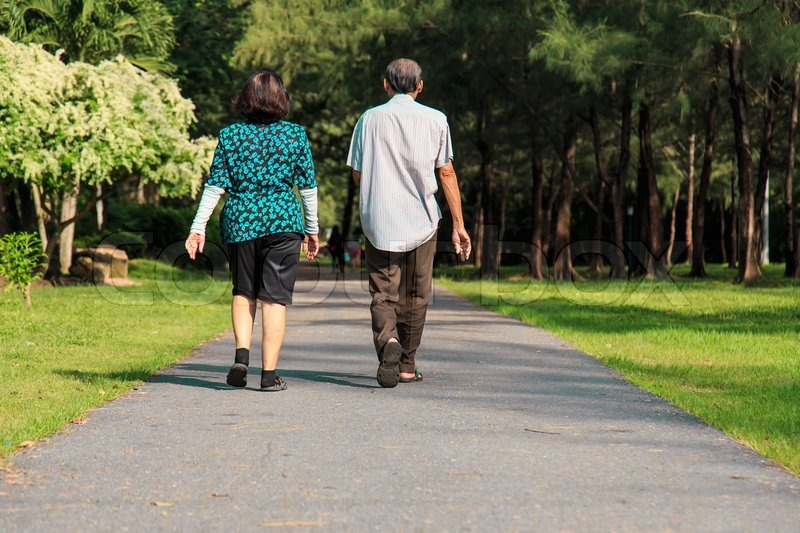NOTSAFE: (353, 51, 442, 261), (223, 67, 307, 269)
